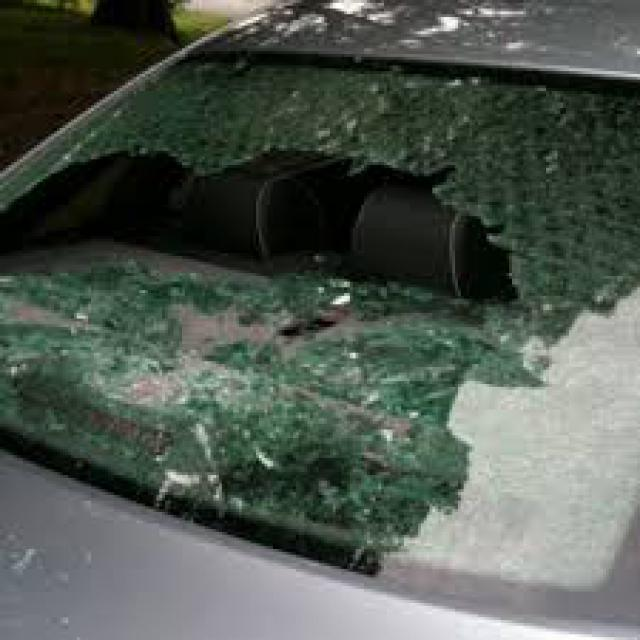Rear-windscreen-Damage: (0, 54, 637, 586)
